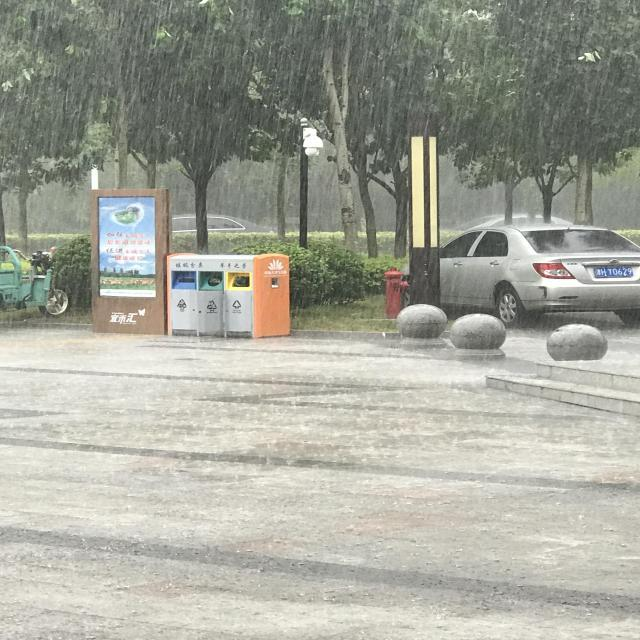car: (214, 0, 324, 244), (210, 350, 252, 490)
